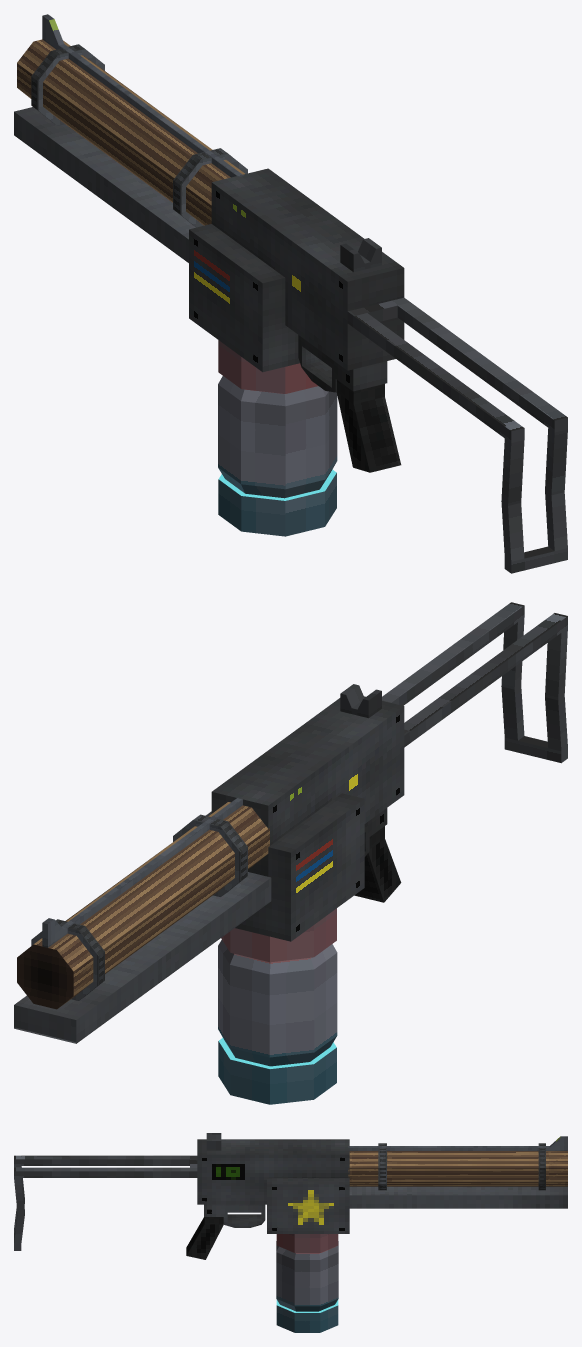
File: laser_rifle.gltf
The picture shows the model from 3 angles, top to bottom: view 1: azimuth 30°, elevation 25°; view 2: azimuth 150°, elevation 25°; view 3: azimuth 270°, elevation 25°; orthographic projection. The views are drawn at different scales.
Parts seen in each view (by area): view 1: reciever, energy_cell, stock, emitter, frame, grip, front_sight, rear_sight; view 2: reciever, energy_cell, emitter, stock, frame, front_sight, grip, rear_sight; view 3: reciever, emitter, energy_cell, frame, stock, front_sight, grip, rear_sight.
Part boxes in pixels (x1,y1,x2,y2): reciever: (189,168,404,392); energy_cell: (218,340,337,536); stock: (347,297,567,573); emitter: (17,39,247,227); frame: (14,107,195,262); grip: (336,380,401,472); front_sight: (42,14,243,177); rear_sight: (340,238,381,272); reciever: (205,696,404,941); energy_cell: (218,908,337,1104); emitter: (17,802,269,1009); stock: (382,602,567,763); frame: (14,872,271,1043); front_sight: (42,797,242,947); grip: (354,826,401,902); rear_sight: (340,684,381,718); reciever: (197,1139,349,1233); emitter: (348,1143,567,1190); energy_cell: (276,1234,338,1332); frame: (349,1186,567,1208); stock: (14,1155,197,1250); front_sight: (348,1136,567,1150); grip: (186,1217,223,1259); rear_sight: (206,1133,221,1150).
Bounding box in the file's own units: 0.1125 × 0.3438 × 0.9438.
Materials: 7 (7 with a texture image).
